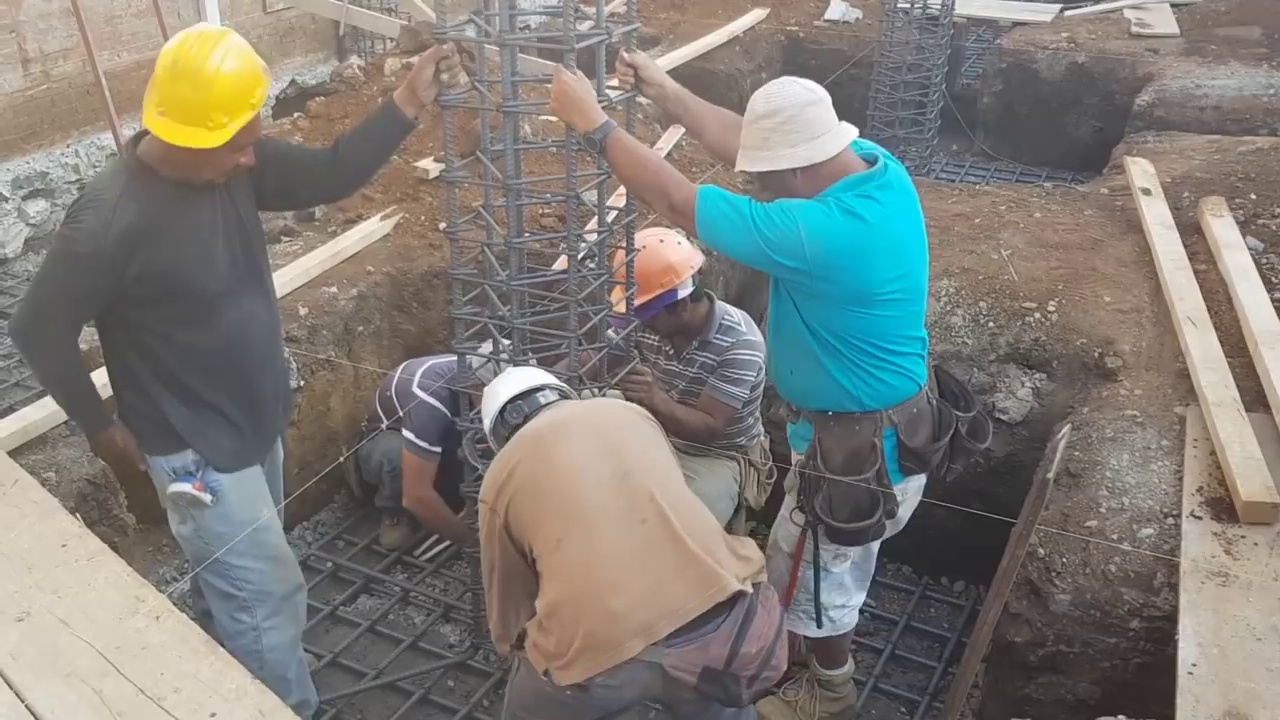helmet: (130, 19, 263, 156), (597, 223, 713, 317), (481, 364, 574, 450)
helmet-off: (726, 74, 875, 207), (463, 336, 537, 391)
helmet-on: (123, 17, 276, 191), (597, 221, 716, 357), (479, 363, 588, 459)
person: (7, 16, 460, 718), (552, 44, 941, 712), (482, 366, 768, 720), (596, 217, 769, 532), (364, 336, 536, 552)
